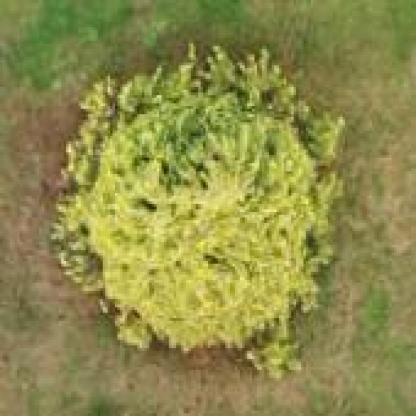Coniferous Tree: (51, 38, 341, 359)
